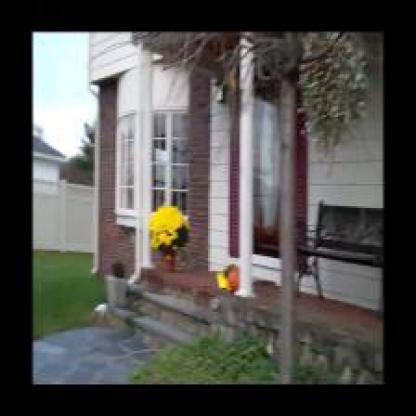other: (142, 198, 194, 254), (212, 260, 237, 292)
